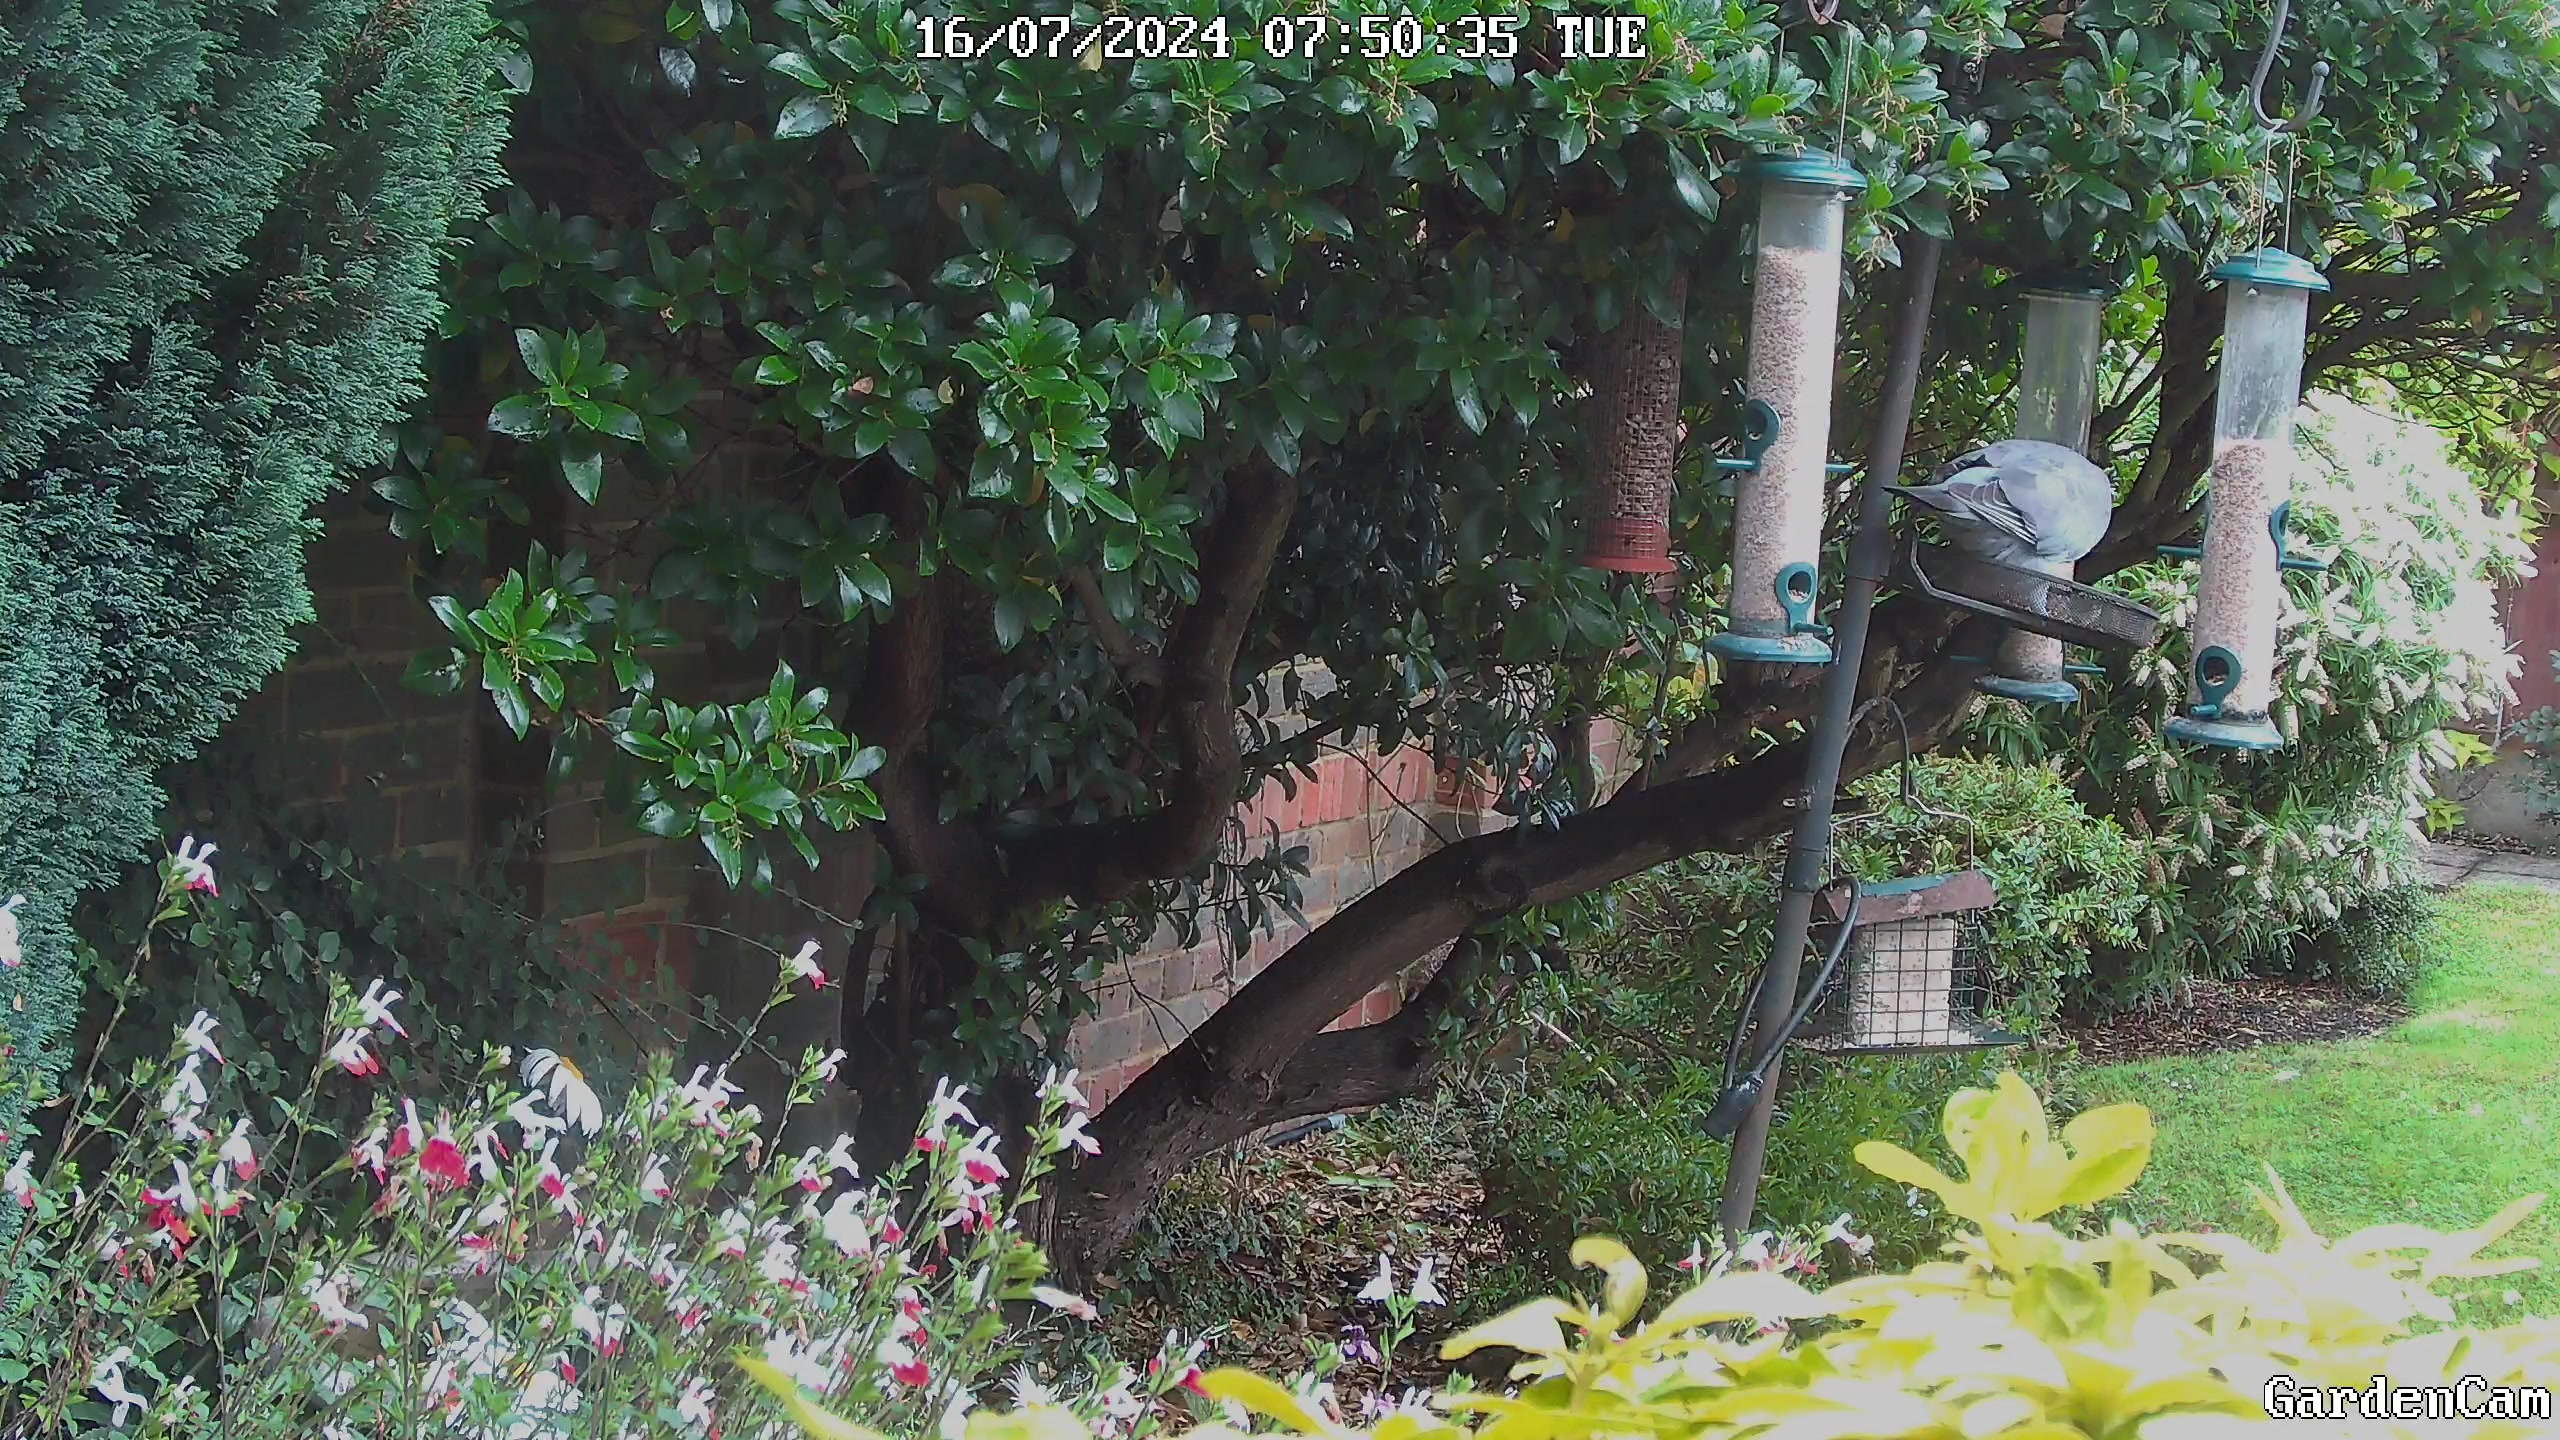Wood_Pigeon: (1883, 376, 2159, 610)
